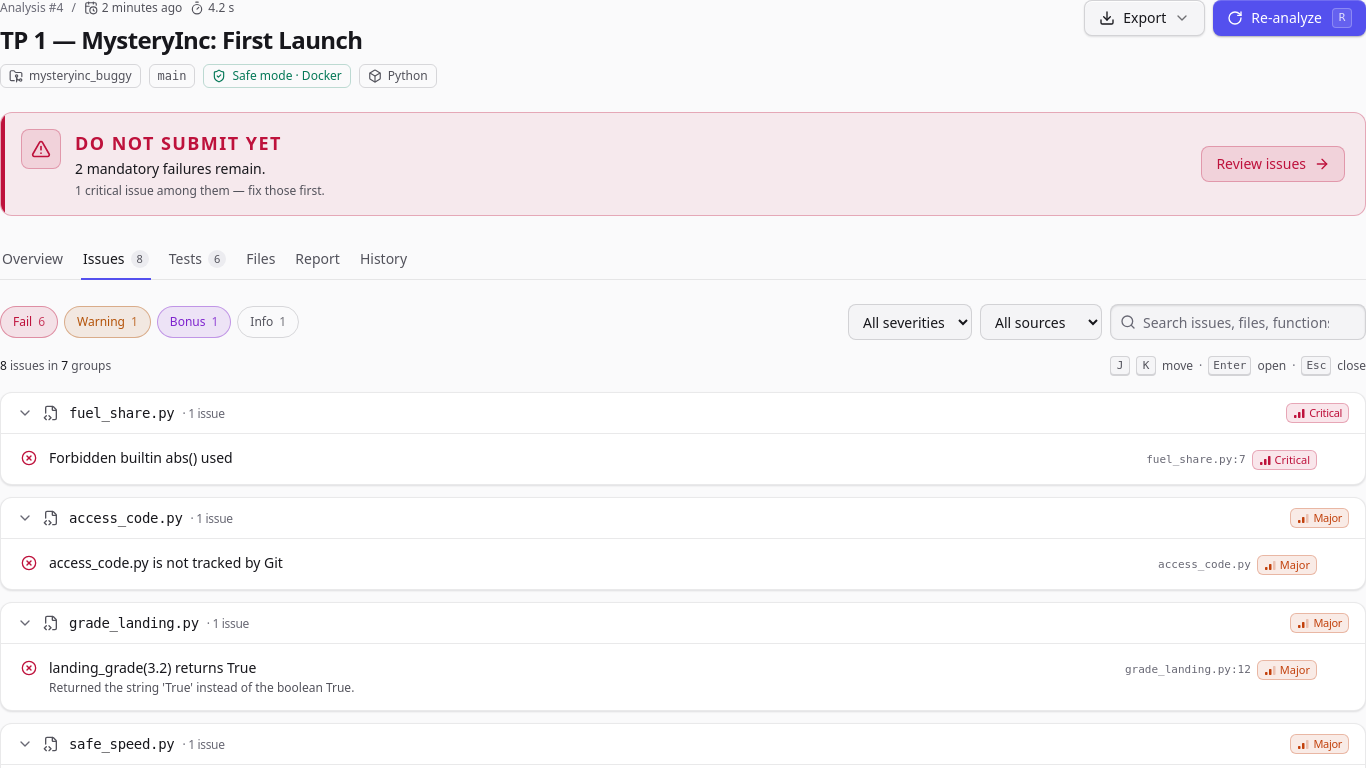
ResultsPage › explains a check with the offline template and navigates with j/k
Click the button "landing_grade(3.2) returns True".
click(153, 668)  # box [9, 648, 1357, 706]
(page scrolled)
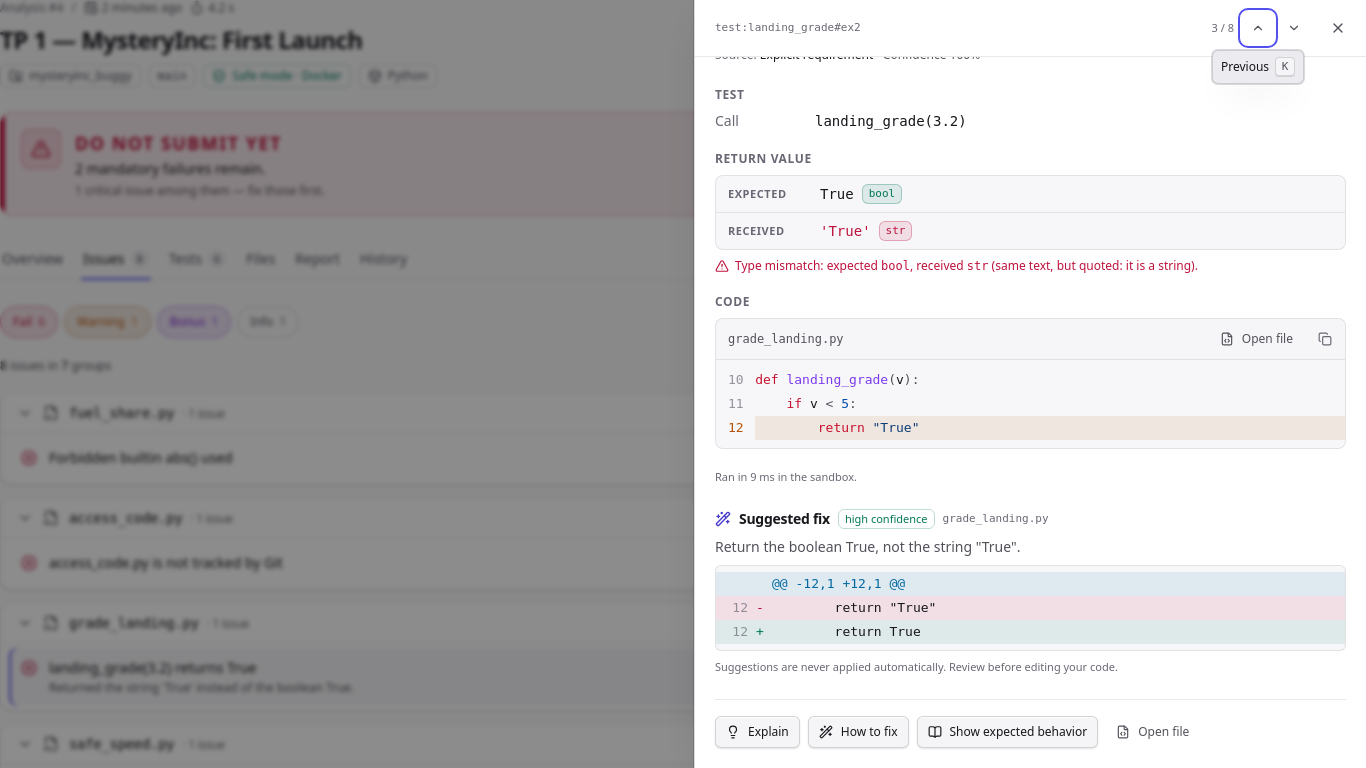
Expected: the heading "Suggested fix" is shown, [739, 509, 830, 529]
Click the button "Explain".
click(757, 732)  # box [715, 716, 800, 748]
(page scrolled)
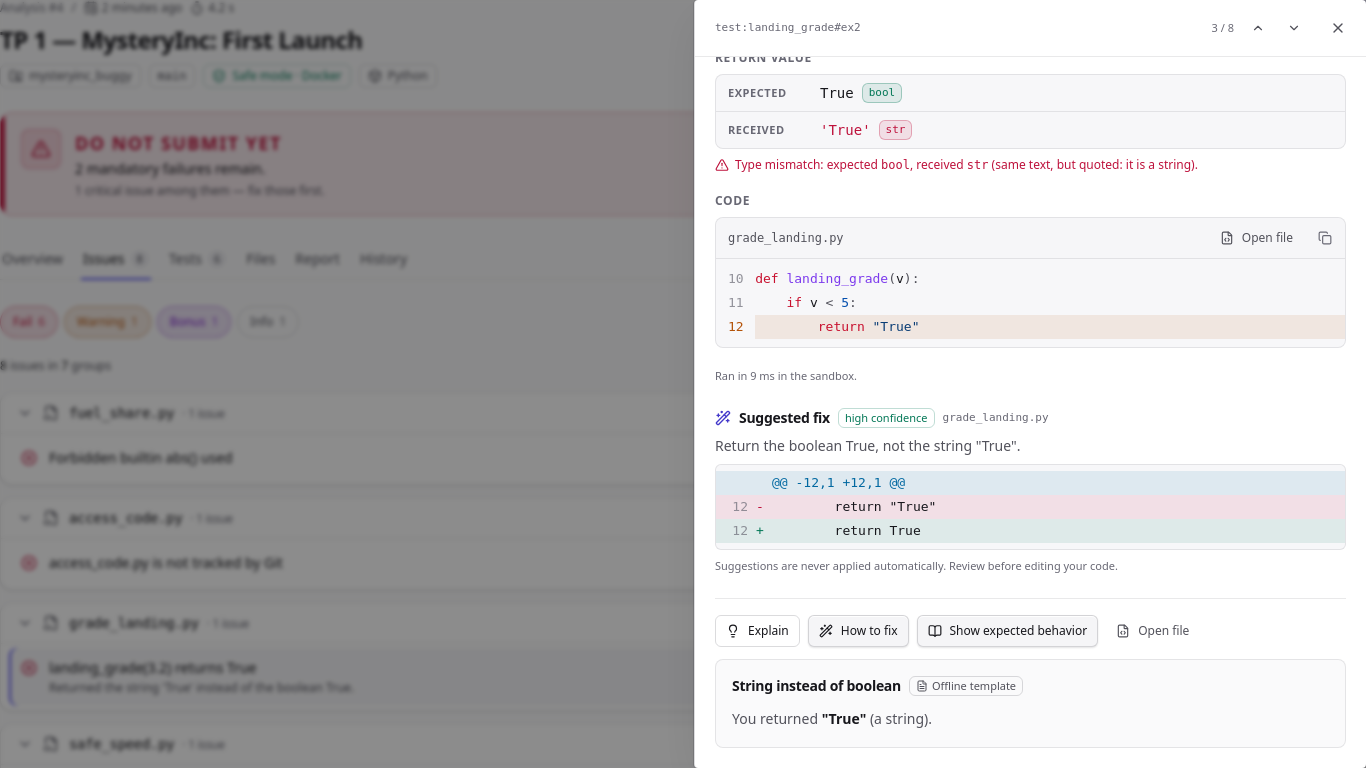
Expected: the heading "String instead of boolean" is shown, [732, 676, 901, 696]
Type keys "j"
(page scrolled)
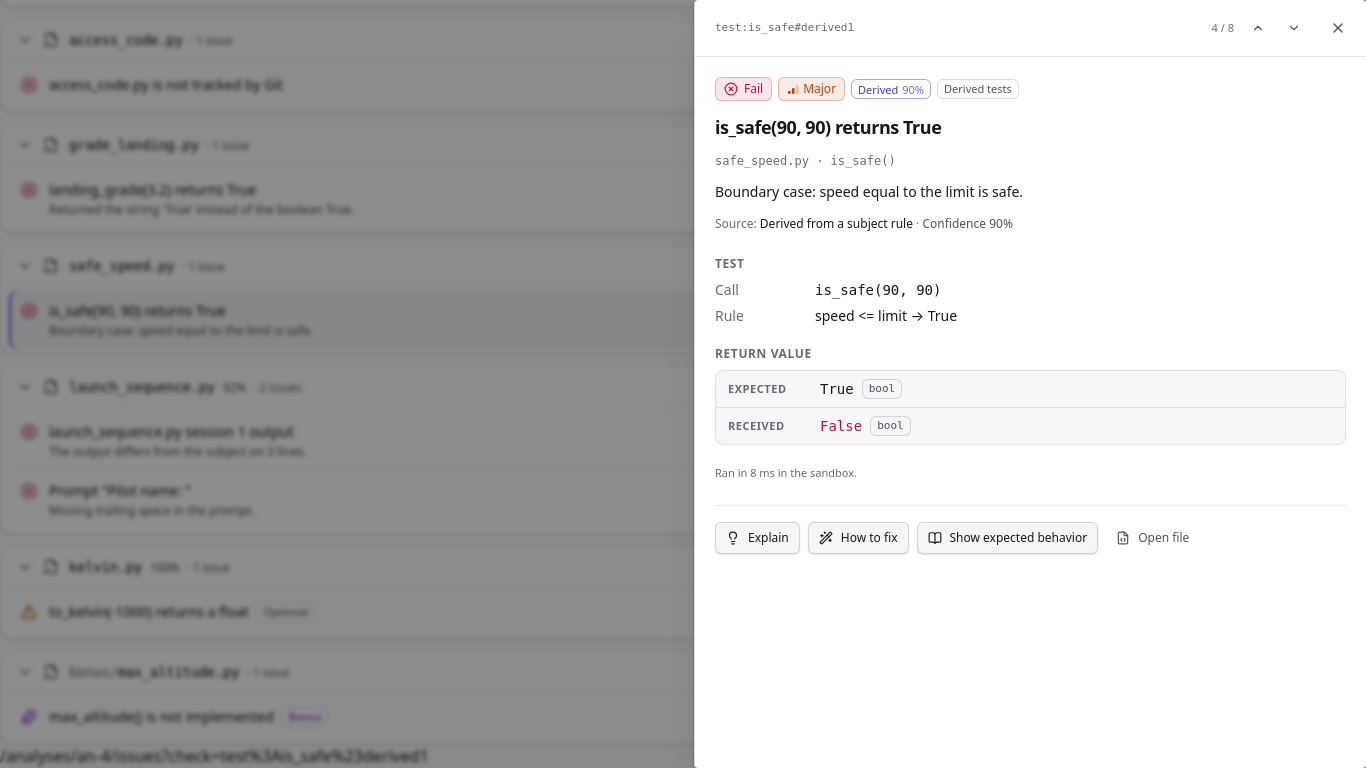
Expected: the heading "String instead of boolean" is gone
